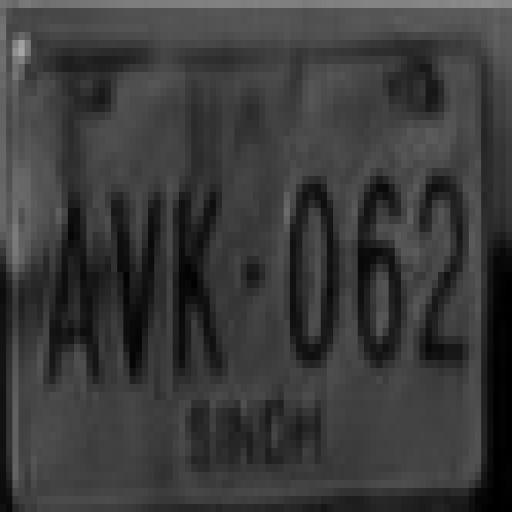0: (277, 179, 347, 371)
6: (414, 175, 476, 364), (358, 179, 405, 367)
A: (38, 174, 103, 397)
K: (166, 182, 227, 382)
V: (102, 179, 160, 389)
